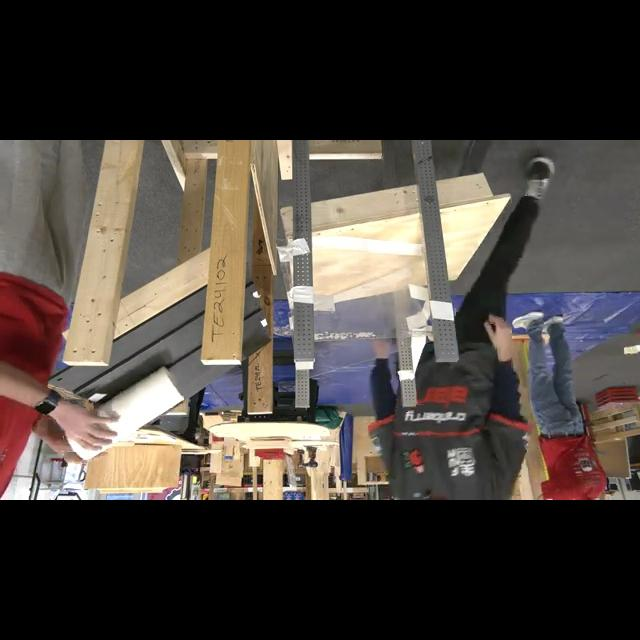CORAL: (66, 366, 186, 462)
